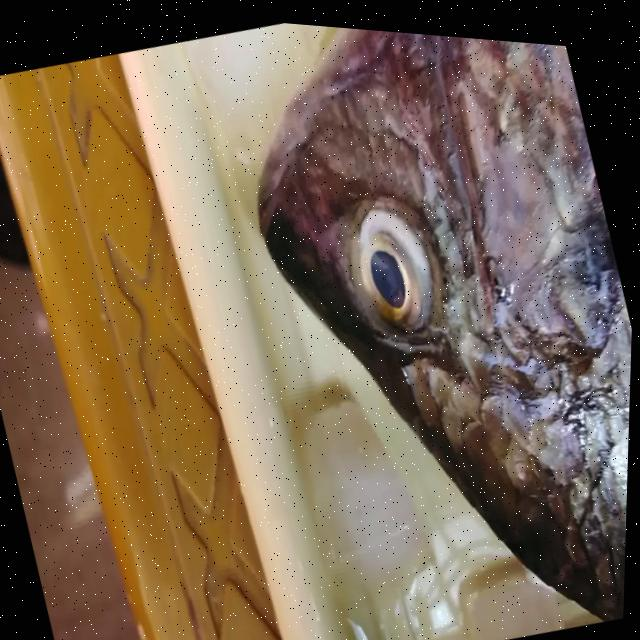Fresh: (319, 141, 512, 386)
